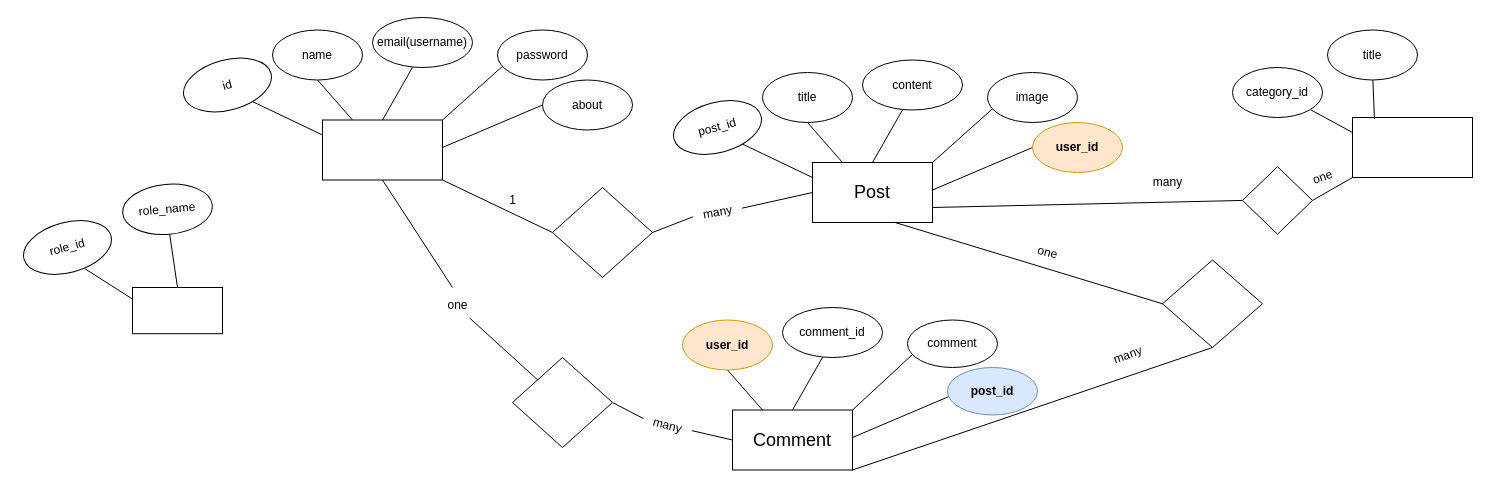
Image size: 1491x489. Some labels were removed from this diagram. Here are the shapes that lost their labels. From the top down, the centre of each, then its label:
[382,149]: User
[1412,147]: categories
[1277,200]: contains
[602,232]: can create
[177,310]: Role
[1212,303]: can have
[562,402]: can do
